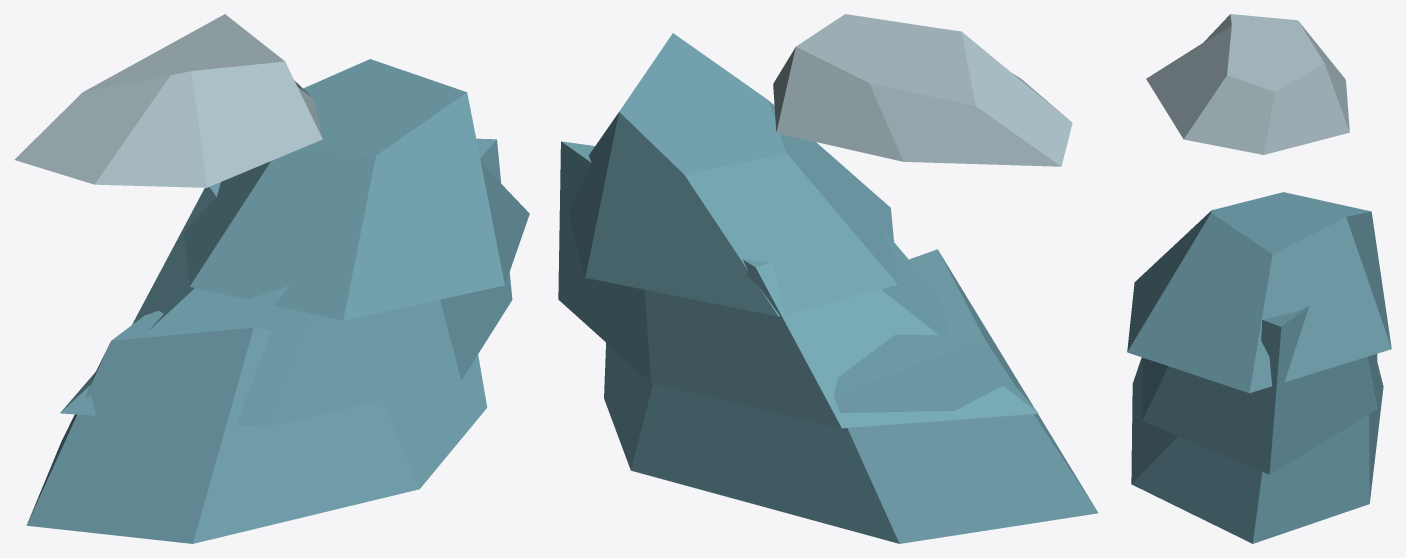
Rendered from map-boundaries-v5__frost_03.glb.
3 views of the same model, side by side, from view 1: azimuth 30°, elevation 25°; view 2: azimuth 150°, elevation 25°; view 3: azimuth 270°, elevation 25° (orthographic). The views are drawn at different scales.
Visible parts, largest first — view 1: frost_03; view 2: frost_03; view 3: frost_03.
Part boxes in pixels (bbox=[...]): frost_03: bbox=[14, 14, 529, 543]; frost_03: bbox=[558, 14, 1098, 543]; frost_03: bbox=[1127, 14, 1391, 543].
Bounding box in the file's own units: 1.26 × 1 × 0.6253.
